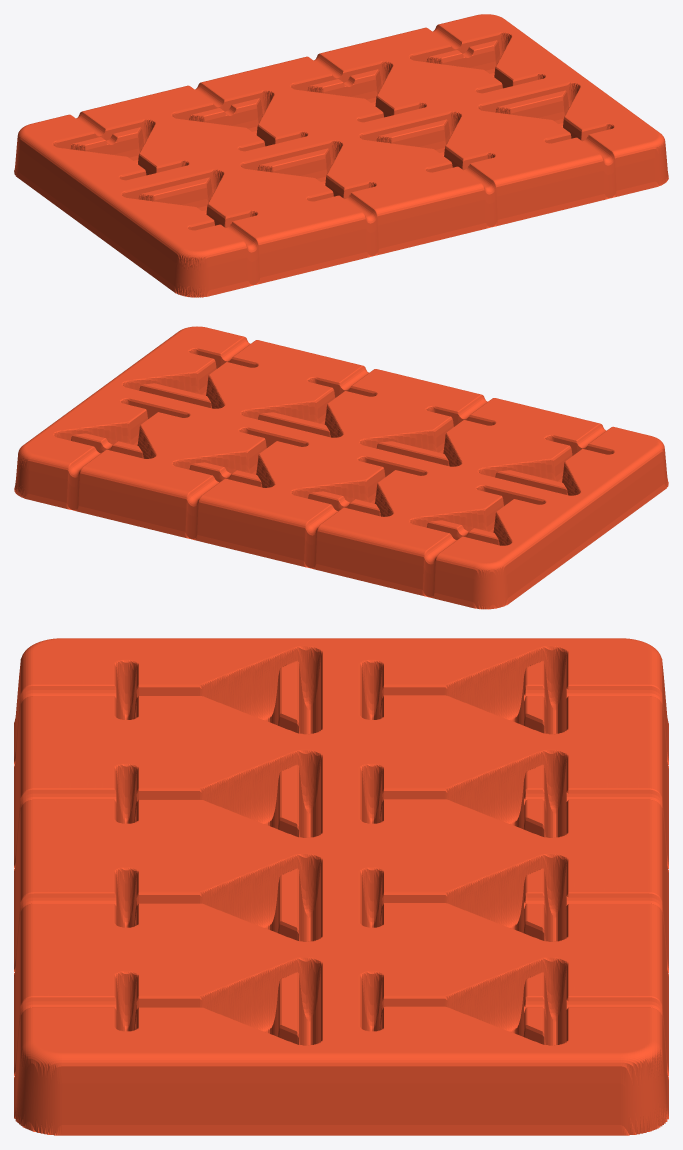
Rendered from mold.glb.
3 views of the same model, one above another, from view 1: azimuth 30°, elevation 25°; view 2: azimuth 150°, elevation 25°; view 3: azimuth 270°, elevation 25° (orthographic). The views are drawn at different scales.
Parts seen in each view (by area): view 1: geometry_0; view 2: geometry_0; view 3: geometry_0.
Boxes of the visible parts, x1,y1,x2,y2 form: geometry_0: [14, 14, 668, 297]; geometry_0: [14, 326, 668, 609]; geometry_0: [14, 638, 668, 1135].
Size of the model in its own units: 0.1907 by 0.0155 by 0.1229.
